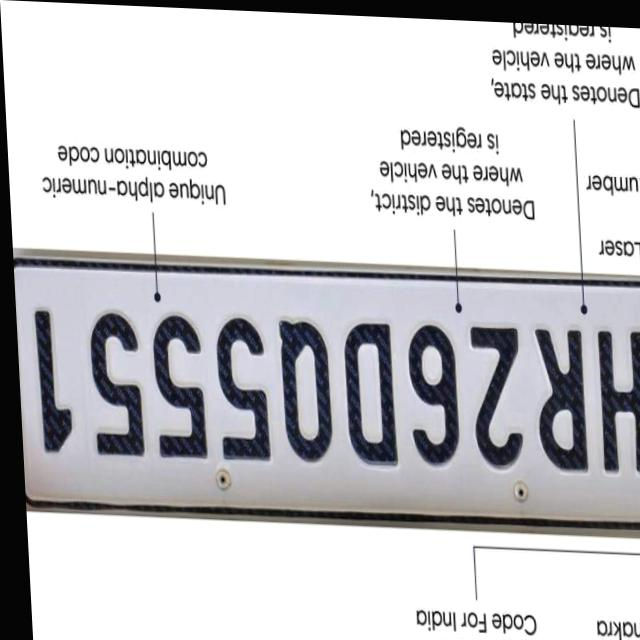1: (20, 304, 73, 454)
2: (458, 320, 527, 469)
5: (77, 300, 149, 461), (205, 303, 270, 472), (144, 302, 208, 467)
6: (397, 313, 461, 466)
d: (335, 311, 393, 470)
h: (588, 315, 640, 472)
q: (267, 308, 332, 466)
r: (527, 314, 588, 466)
